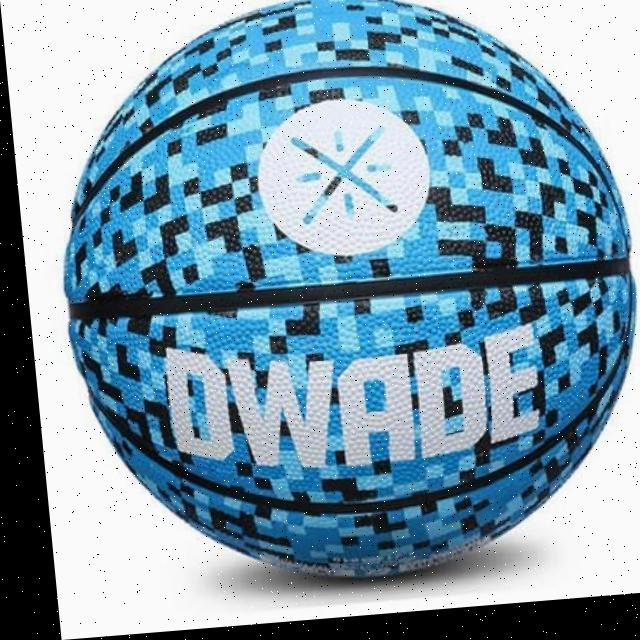Basketball: (38, 0, 640, 600)
